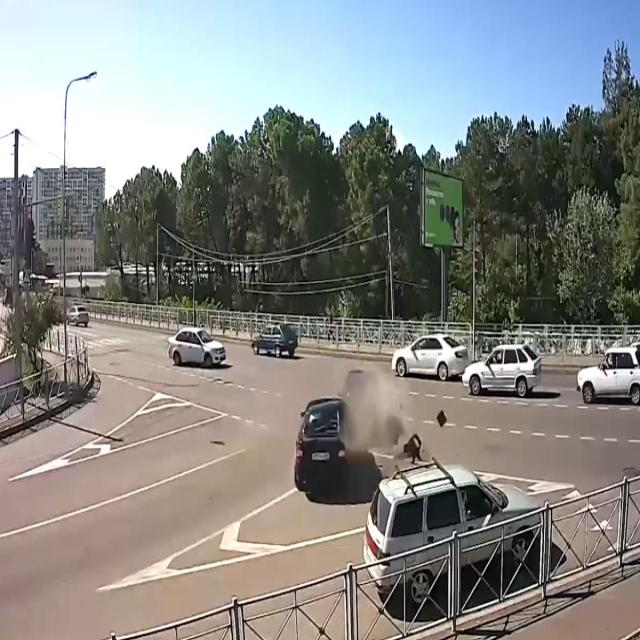accident: (293, 357, 423, 503)
non_accident: (388, 325, 548, 404), (568, 332, 640, 414)
